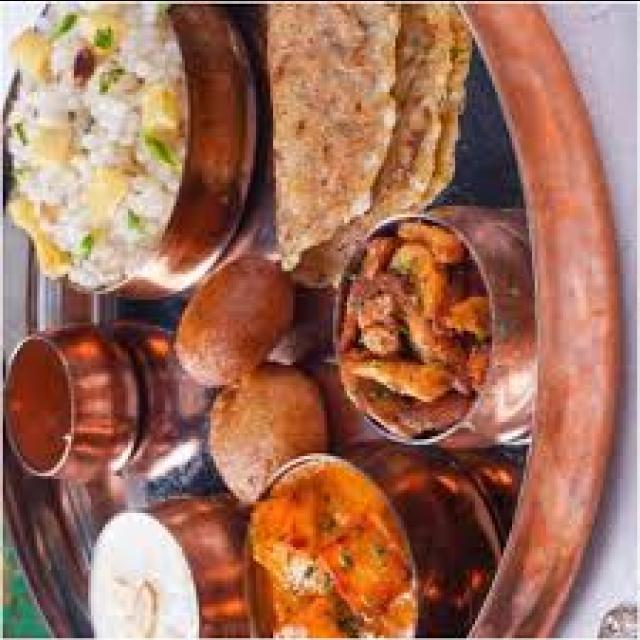veg-fry: (234, 453, 431, 631)
